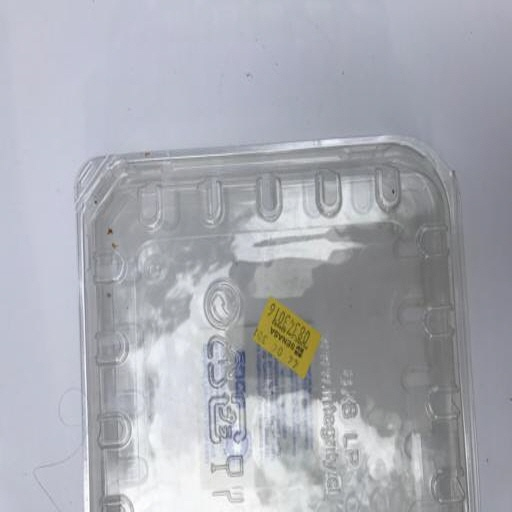Plastic_4: (71, 135, 479, 512)
